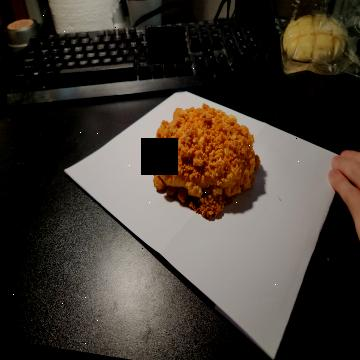soboru_bread: (151, 104, 258, 219)
